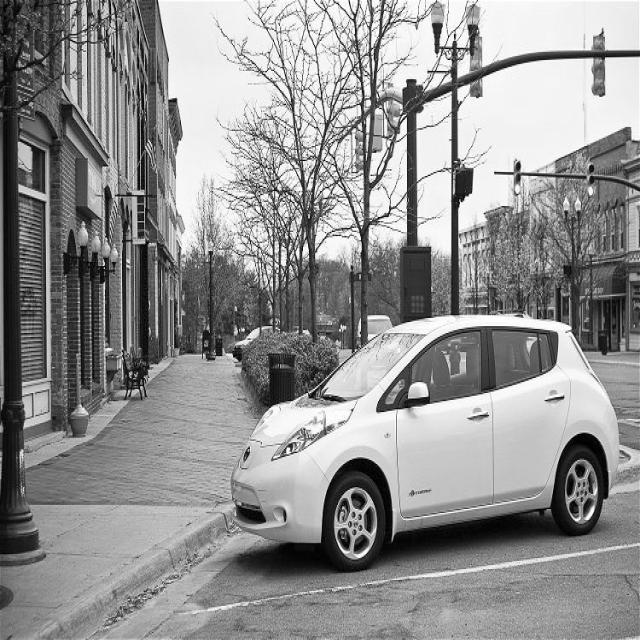car: (230, 310, 620, 572), (232, 325, 280, 360)
